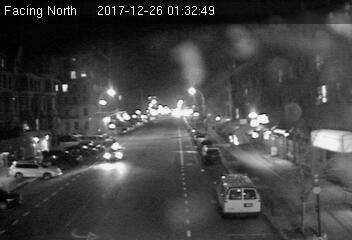car: (106, 143, 125, 161), (201, 147, 222, 161)
truck: (216, 171, 262, 214)
